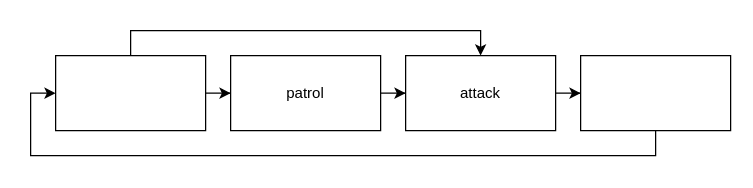
The diagram is 753 pixels wide and 188 high, and some of its shapes have lost their labels. The box of each missing label's shape, as (x1, y1, x2, y2) in pixels:
idle: (54, 54, 206, 131)
investigate: (579, 54, 731, 131)
